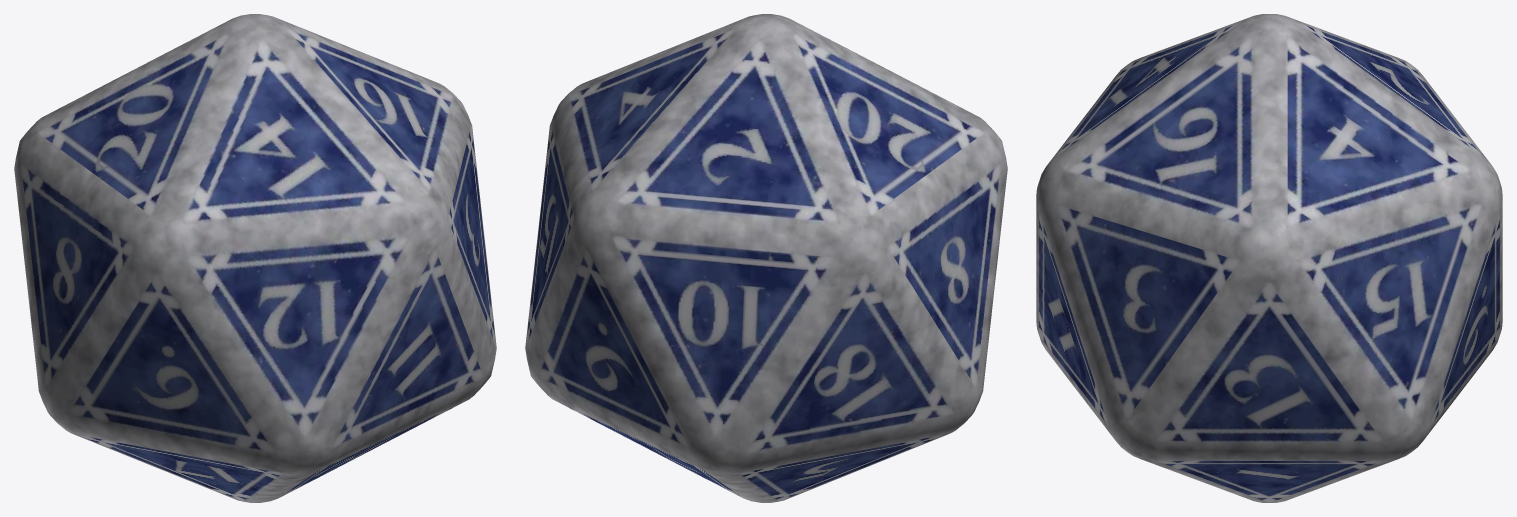
The model's file is breton-d20.glb.
3 renders of one model, left to right at view 1: azimuth 30°, elevation 25°; view 2: azimuth 150°, elevation 25°; view 3: azimuth 270°, elevation 25°, orthographic.
Parts seen in each view (by area): view 1: breton_d20; view 2: breton_d20; view 3: breton_d20.
Boxes of the visible parts, x1,y1,x2,y2 form: breton_d20: [14, 14, 496, 502]; breton_d20: [525, 14, 1007, 502]; breton_d20: [1036, 14, 1502, 502].
Bounding box in the file's own units: 1.74 × 1.9 × 1.67.
1 material, 1 textured.
